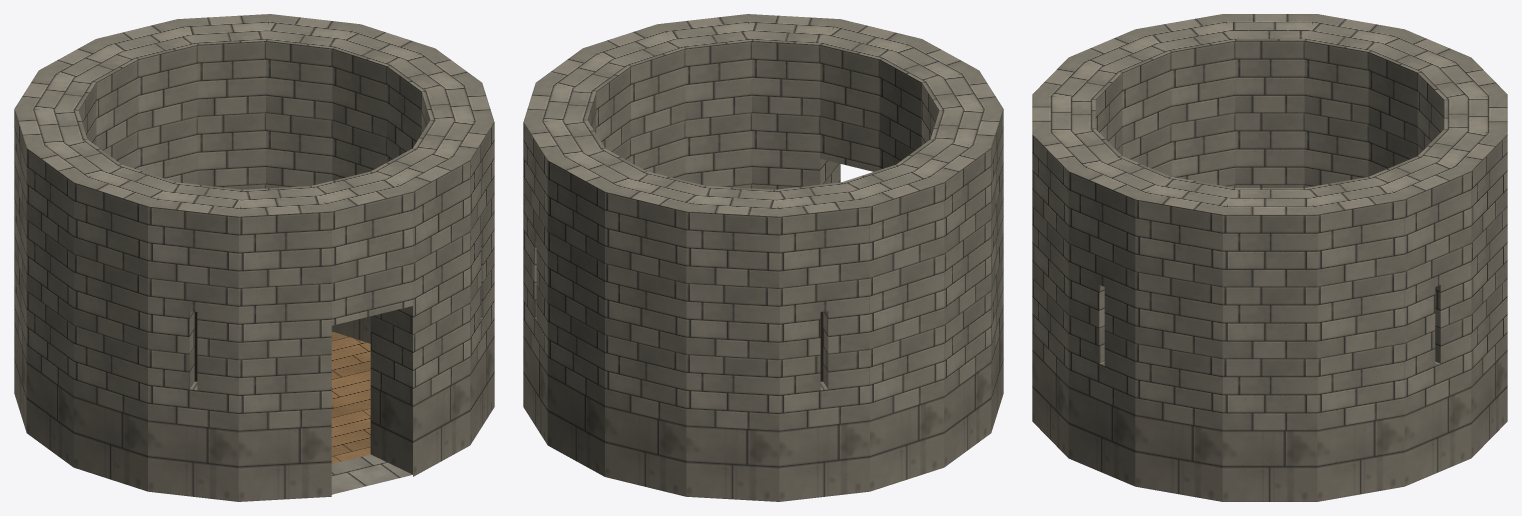
File: tower_cs_round_door.obj
3 renders of one model, left to right at view 1: azimuth 30°, elevation 25°; view 2: azimuth 150°, elevation 25°; view 3: azimuth 270°, elevation 25°, orthographic.
Visible parts, largest first — view 1: tower_cs_round_door_wall11, tower_cs_round_door_wall10, tower_cs_round_door_wall09, tower_cs_round_door_wall13, tower_cs_round_door_wall08, tower_cs_round_door_wall03, tower_cs_round_door_wall02, tower_cs_round_door_door12, tower_cs_round_door_wall04, tower_cs_round_door_wall14, tower_cs_round_door_wall01, tower_cs_round_door (+6 smaller); view 2: tower_cs_round_door_wall05, tower_cs_round_door_wall06, tower_cs_round_door_wall04, tower_cs_round_door_wall07, tower_cs_round_door_wall03, tower_cs_round_door_wall08, tower_cs_round_door_wall13, tower_cs_round_door_wall14, tower_cs_round_door_wall02, tower_cs_round_door_door12, tower_cs_round_door_wall15, tower_cs_round_door_wall11 (+4 smaller); view 3: tower_cs_round_door_wall00, tower_cs_round_door_wall01, tower_cs_round_door_wall15, tower_cs_round_door_wall02, tower_cs_round_door_wall14, tower_cs_round_door_wall03, tower_cs_round_door_wall13, tower_cs_round_door_wall08, tower_cs_round_door_wall07, tower_cs_round_door_wall09, tower_cs_round_door_wall06, tower_cs_round_door_wall10 (+4 smaller).
Part boxes in pixels (x1=…): tower_cs_round_door_wall11: x1=238, y1=186, x2=331, y2=501; tower_cs_round_door_wall10: x1=148, y1=182, x2=242, y2=501; tower_cs_round_door_wall09: x1=73, y1=164, x2=175, y2=491; tower_cs_round_door_wall13: x1=371, y1=148, x2=470, y2=476; tower_cs_round_door_wall08: x1=26, y1=139, x2=121, y2=467; tower_cs_round_door_wall03: x1=177, y1=14, x2=269, y2=189; tower_cs_round_door_wall02: x1=266, y1=14, x2=360, y2=331; tower_cs_round_door_door12: x1=311, y1=171, x2=412, y2=325; tower_cs_round_door_wall04: x1=96, y1=19, x2=197, y2=184; tower_cs_round_door_wall14: x1=413, y1=120, x2=494, y2=444; tower_cs_round_door_wall01: x1=332, y1=24, x2=434, y2=343; tower_cs_round_door: x1=331, y1=331, x2=412, y2=494; tower_cs_round_door_wall05: x1=686, y1=186, x2=779, y2=501; tower_cs_round_door_wall06: x1=775, y1=182, x2=869, y2=501; tower_cs_round_door_wall04: x1=605, y1=171, x2=706, y2=496; tower_cs_round_door_wall07: x1=842, y1=164, x2=944, y2=491; tower_cs_round_door_wall03: x1=547, y1=148, x2=646, y2=476; tower_cs_round_door_wall08: x1=896, y1=139, x2=991, y2=467; tower_cs_round_door_wall13: x1=748, y1=14, x2=840, y2=189; tower_cs_round_door_wall14: x1=657, y1=14, x2=751, y2=188; tower_cs_round_door_wall02: x1=523, y1=120, x2=604, y2=444; tower_cs_round_door_door12: x1=820, y1=19, x2=921, y2=171; tower_cs_round_door_wall15: x1=583, y1=24, x2=685, y2=180; tower_cs_round_door_wall11: x1=879, y1=39, x2=978, y2=169; tower_cs_round_door_wall00: x1=1222, y1=188, x2=1317, y2=501; tower_cs_round_door_wall01: x1=1305, y1=177, x2=1404, y2=501; tower_cs_round_door_wall15: x1=1135, y1=177, x2=1234, y2=501; tower_cs_round_door_wall02: x1=1369, y1=156, x2=1471, y2=486; tower_cs_round_door_wall14: x1=1068, y1=156, x2=1170, y2=486; tower_cs_round_door_wall03: x1=1418, y1=129, x2=1507, y2=457; tower_cs_round_door_wall13: x1=1032, y1=129, x2=1121, y2=457; tower_cs_round_door_wall08: x1=1223, y1=14, x2=1316, y2=187; tower_cs_round_door_wall07: x1=1304, y1=14, x2=1403, y2=187; tower_cs_round_door_wall09: x1=1136, y1=14, x2=1235, y2=187; tower_cs_round_door_wall06: x1=1368, y1=29, x2=1470, y2=176; tower_cs_round_door_wall10: x1=1069, y1=29, x2=1171, y2=176.
Size of the model in its own units: 6 by 4.17 by 6.
Materials: 1 (1 with a texture image).
